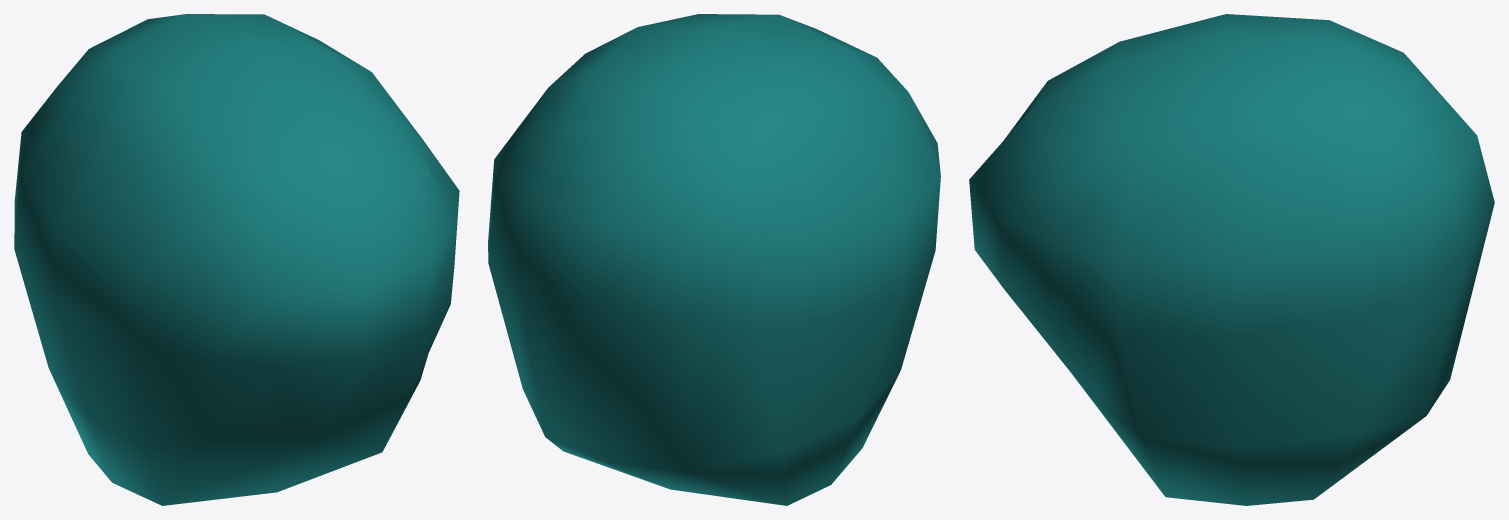
Rendered from hockey_helmet_collider.fbx.
3 views of the same model, side by side, from view 1: azimuth 30°, elevation 25°; view 2: azimuth 150°, elevation 25°; view 3: azimuth 270°, elevation 25° (orthographic).
Parts seen in each view (by area): view 1: hockey_helmet_collider; view 2: hockey_helmet_collider; view 3: hockey_helmet_collider.
Boxes of the visible parts, x1,y1,x2,y2 form: hockey_helmet_collider: [14, 14, 459, 505]; hockey_helmet_collider: [488, 14, 940, 505]; hockey_helmet_collider: [969, 14, 1494, 505].
Size of the model in its own units: 29.2 by 31.86 by 36.
